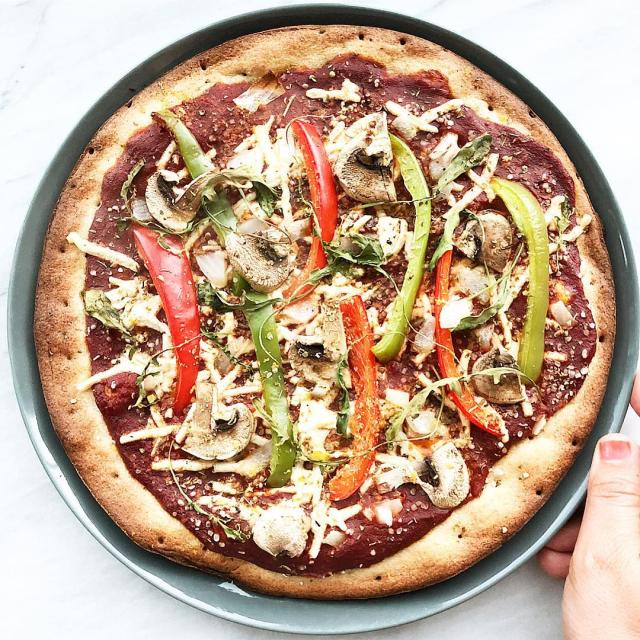mushrooms: (371, 440, 470, 510), (335, 114, 396, 204), (221, 223, 297, 295), (288, 295, 347, 387), (176, 402, 255, 460), (448, 212, 518, 276), (144, 168, 193, 235), (468, 347, 525, 404), (250, 507, 308, 559)
pizza: (34, 24, 616, 603)
